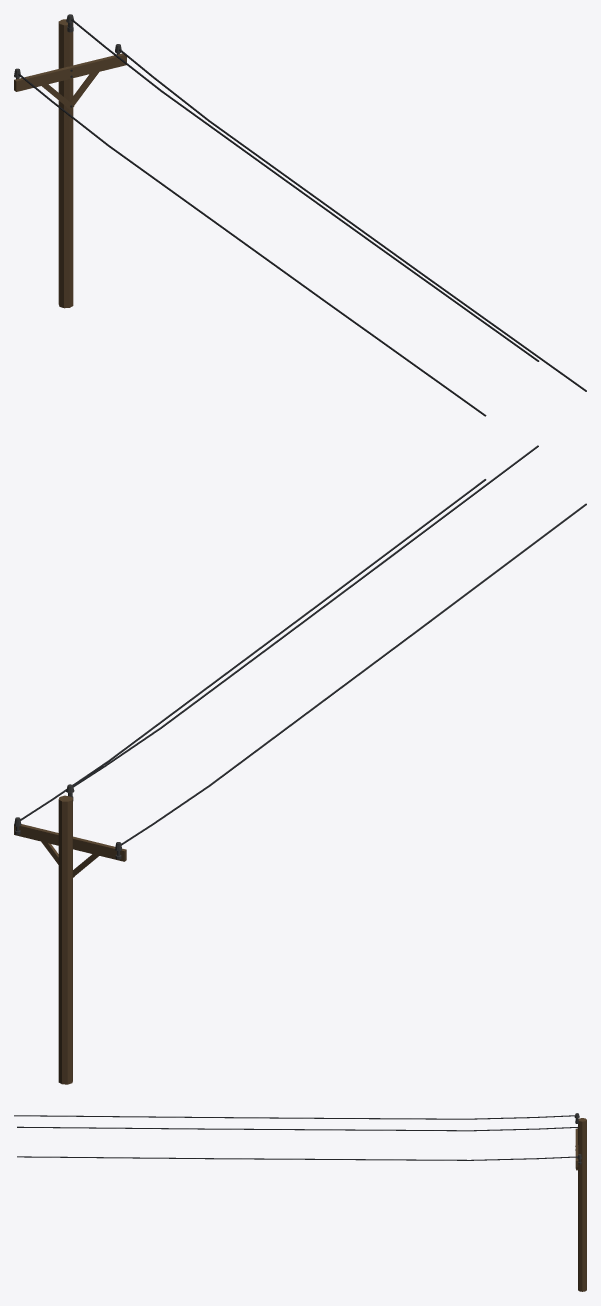
File: PowerTransmissions_1.fbx
3 renders of one model, top to bottom at view 1: azimuth 30°, elevation 25°; view 2: azimuth 150°, elevation 25°; view 3: azimuth 270°, elevation 25°, orthographic. The views are drawn at different scales.
Parts seen in each view (by area): view 1: PowerTransmissions_1; view 2: PowerTransmissions_1; view 3: PowerTransmissions_1.
Part boxes in pixels (<box>): PowerTransmissions_1: <box>14,14,586,416</box>; PowerTransmissions_1: <box>14,445,586,1084</box>; PowerTransmissions_1: <box>14,1113,586,1291</box>.
Bounding box in the file's own units: 81.79 × 207 × 610.
